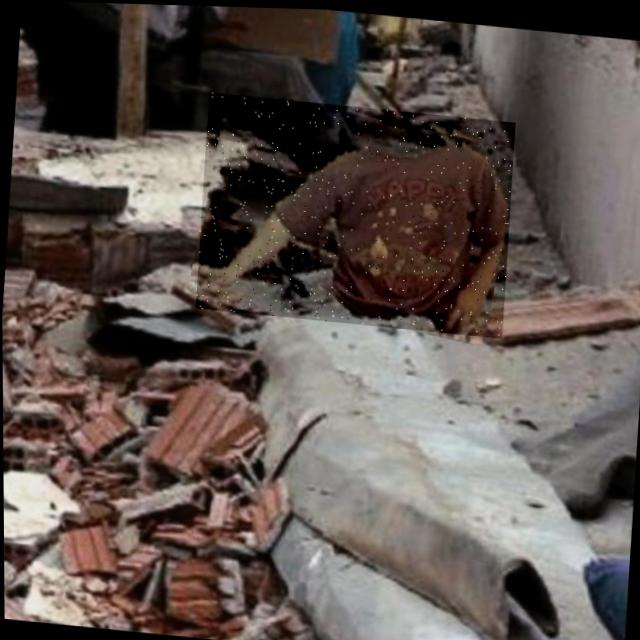Person in Rubble: (192, 90, 515, 335)
